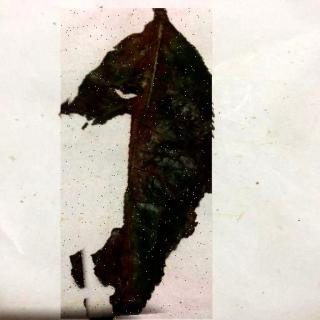Red Leaf Spot: (62, 10, 215, 320)
